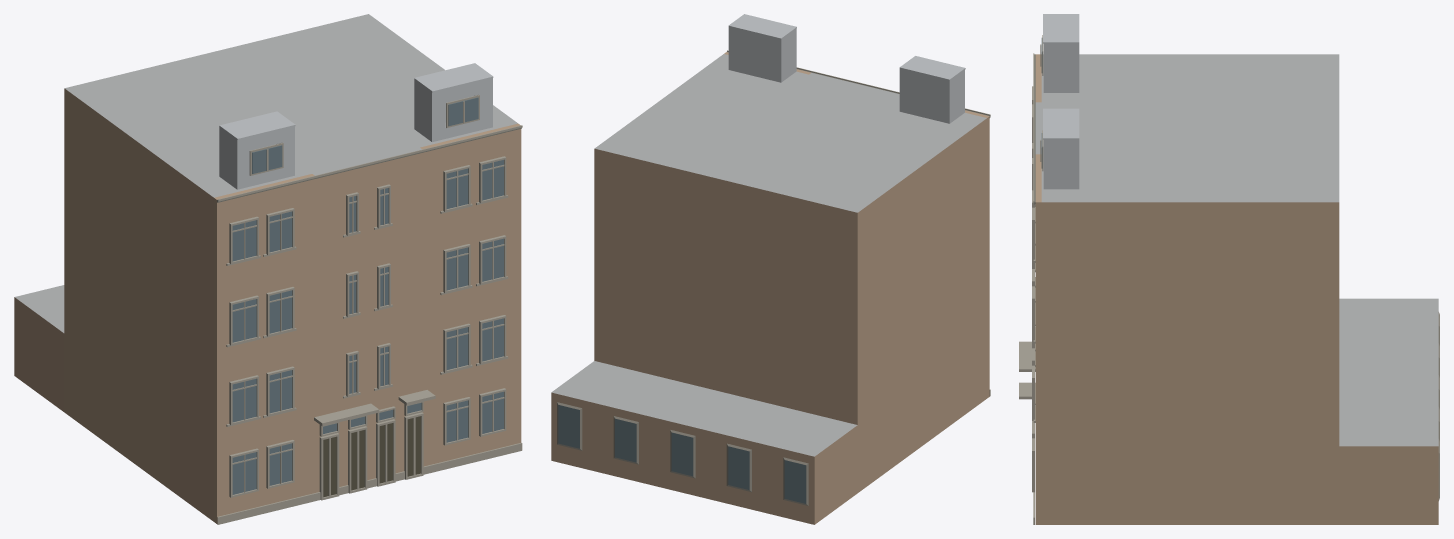
File: chunk-face-haen-6-62-r1.glb
3 views of the same model, side by side, from view 1: azimuth 30°, elevation 25°; view 2: azimuth 150°, elevation 25°; view 3: azimuth 270°, elevation 25° (orthographic). The views are drawn at different scales.
Visible parts, largest first — view 1: face-haen-6-62-r1; view 2: face-haen-6-62-r1; view 3: face-haen-6-62-r1.
Part boxes in pixels (x1=…): face-haen-6-62-r1: x1=14, y1=14, x2=522, y2=524; face-haen-6-62-r1: x1=551, y1=14, x2=990, y2=524; face-haen-6-62-r1: x1=1019, y1=14, x2=1439, y2=524.
Bounding box in the file's own units: 12.8 × 15.14 × 15.39.
